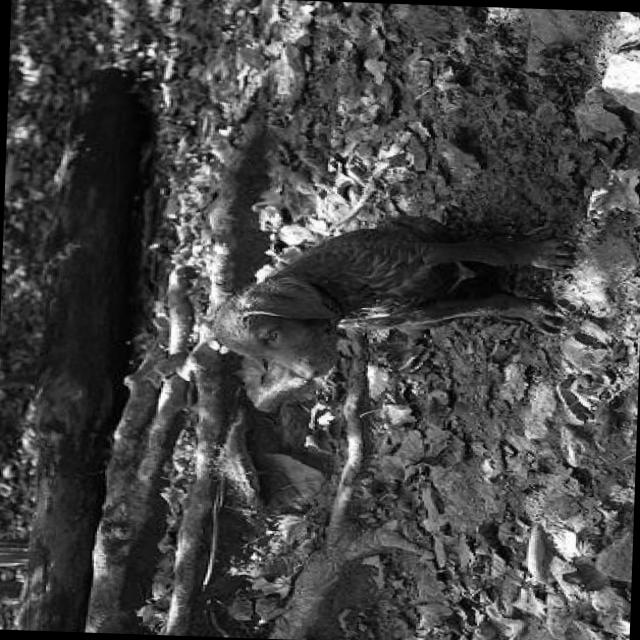sitting: (207, 204, 581, 393)
